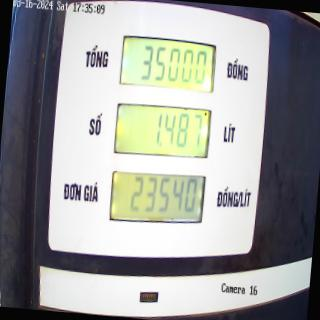screen: (104, 32, 220, 231)
